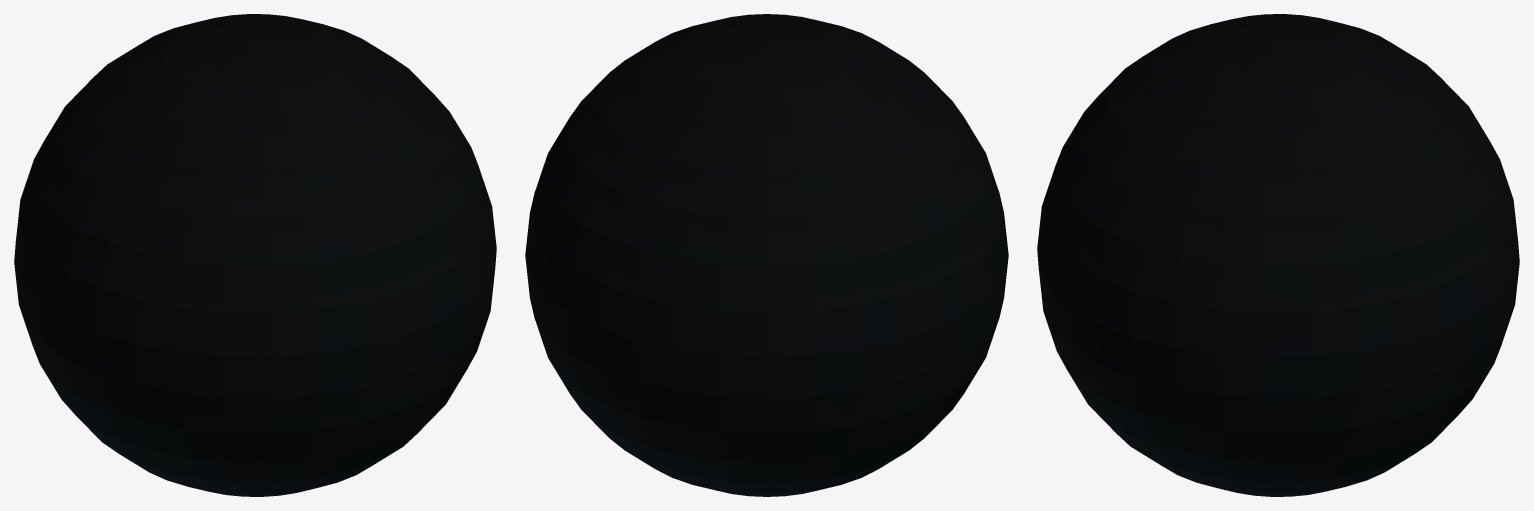
Rendered from bhcore.glb.
The picture shows the model from 3 angles, left to right: view 1: azimuth 30°, elevation 25°; view 2: azimuth 150°, elevation 25°; view 3: azimuth 270°, elevation 25°; orthographic projection.
Visible parts, largest first — view 1: 4.001; view 2: 4.001; view 3: 4.001.
Boxes of the visible parts, <box> form: 4.001: <box>14,14,496,496</box>; 4.001: <box>525,14,1008,496</box>; 4.001: <box>1037,14,1519,496</box>.
Size of the model in its own units: 0.771 by 0.7727 by 0.771.
5 materials, 5 textured.
